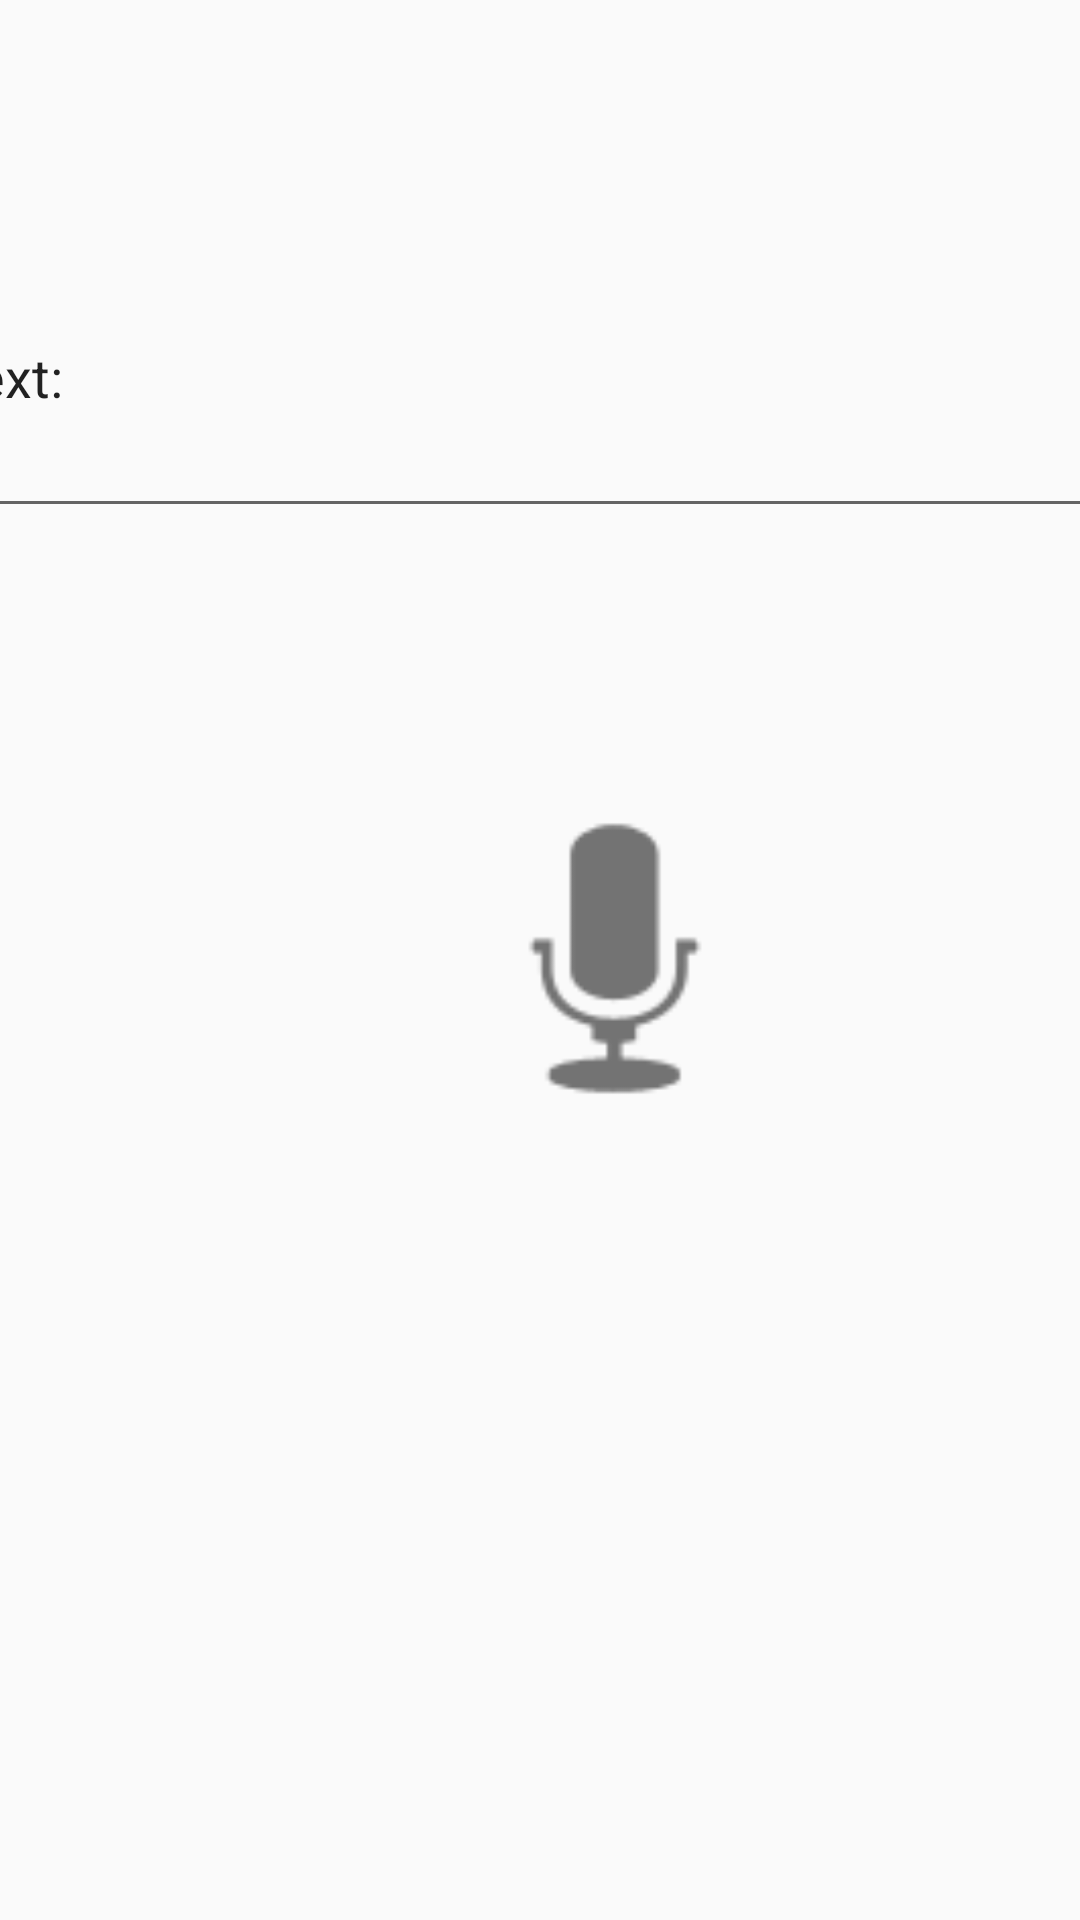

Point at icon controls on the screen. Image size 1080w x 1920h, points as (x=x, y=y).
speak now: (x=615, y=958)
